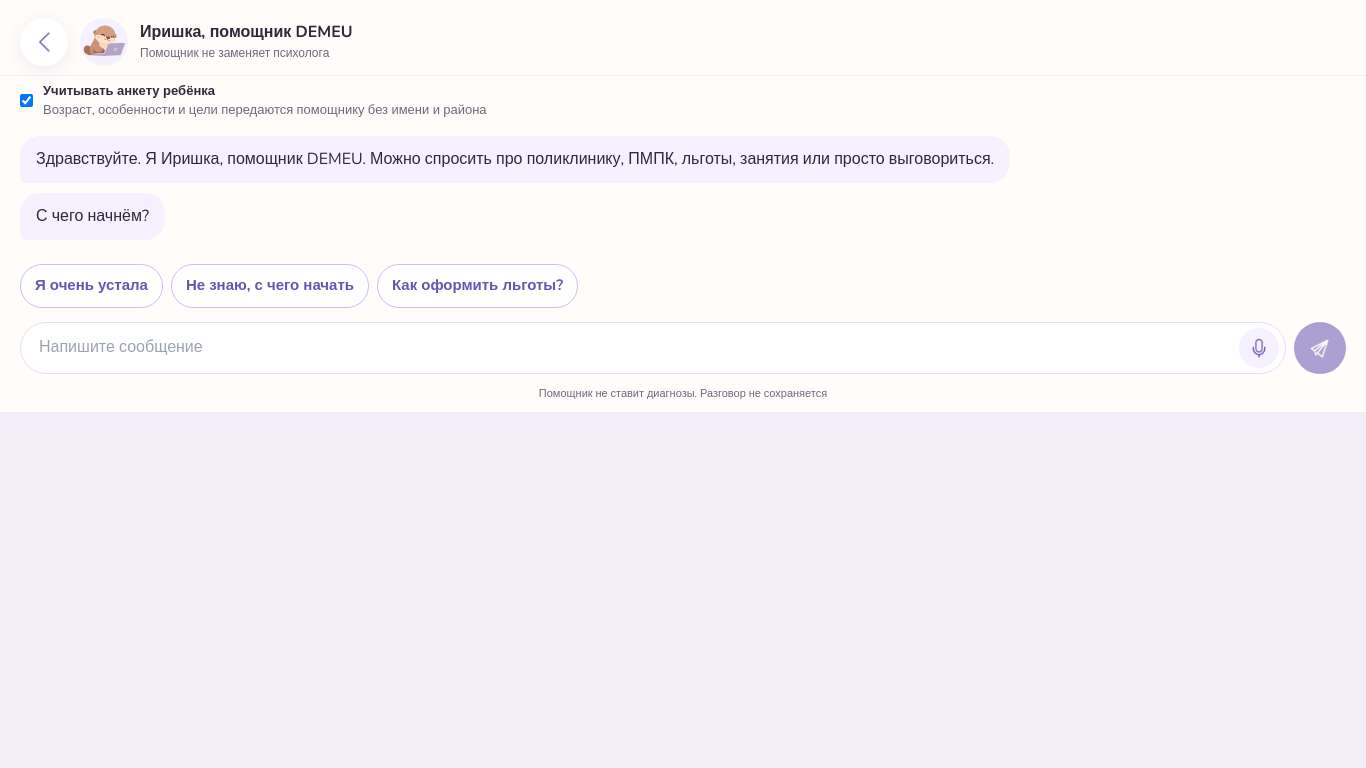
Test: support safety and profile › the assistant answers the actual question, sends the card without name and district, and keeps no history
This screenshot has width=1366, height=768.
Expected: the text "Здравствуйте. Я Иришка" is shown, top-left (36, 148), bottom-right (994, 170)
In the field labelled "Напишите сообщение": (636, 348) top-left (39, 336), bottom-right (1233, 359), type "С чего начать оформление инвалидности?"
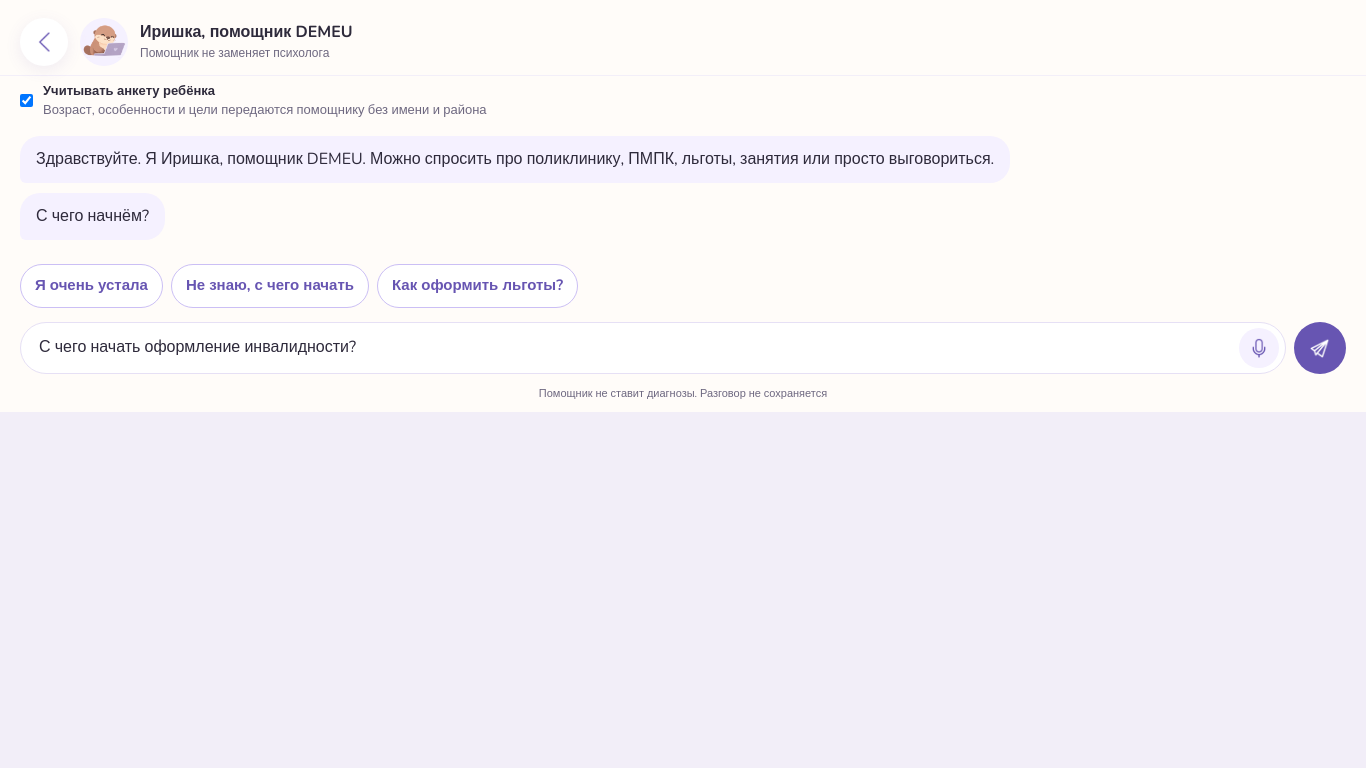
Click the button named "Отправить": (1320, 348) top-left (1294, 322), bottom-right (1346, 374)
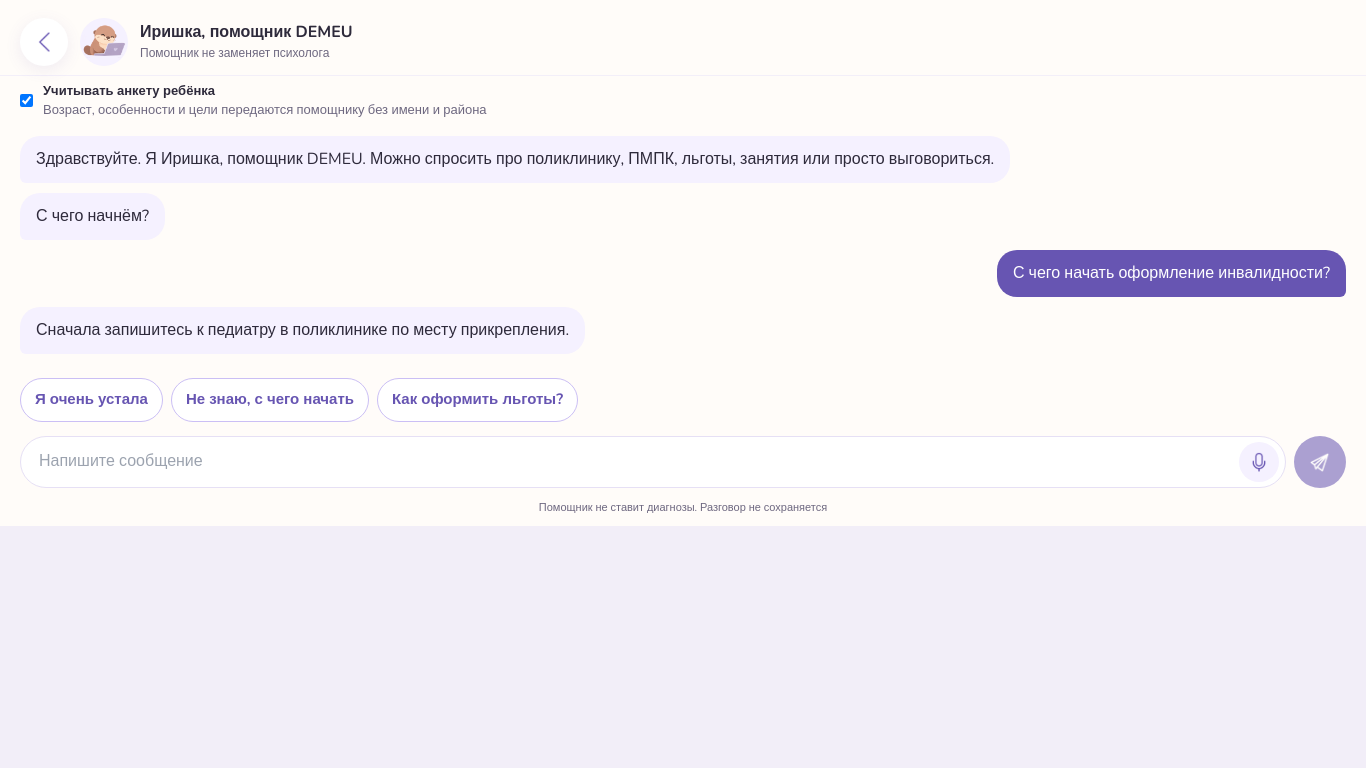
Now the text "Сначала запишитесь к педиатру" is shown, box top-left (36, 319), bottom-right (569, 341)
